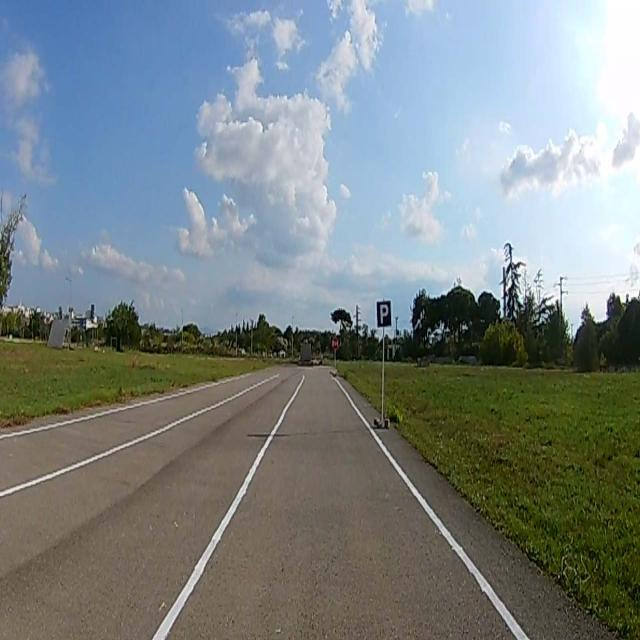park: (377, 302, 391, 327)
